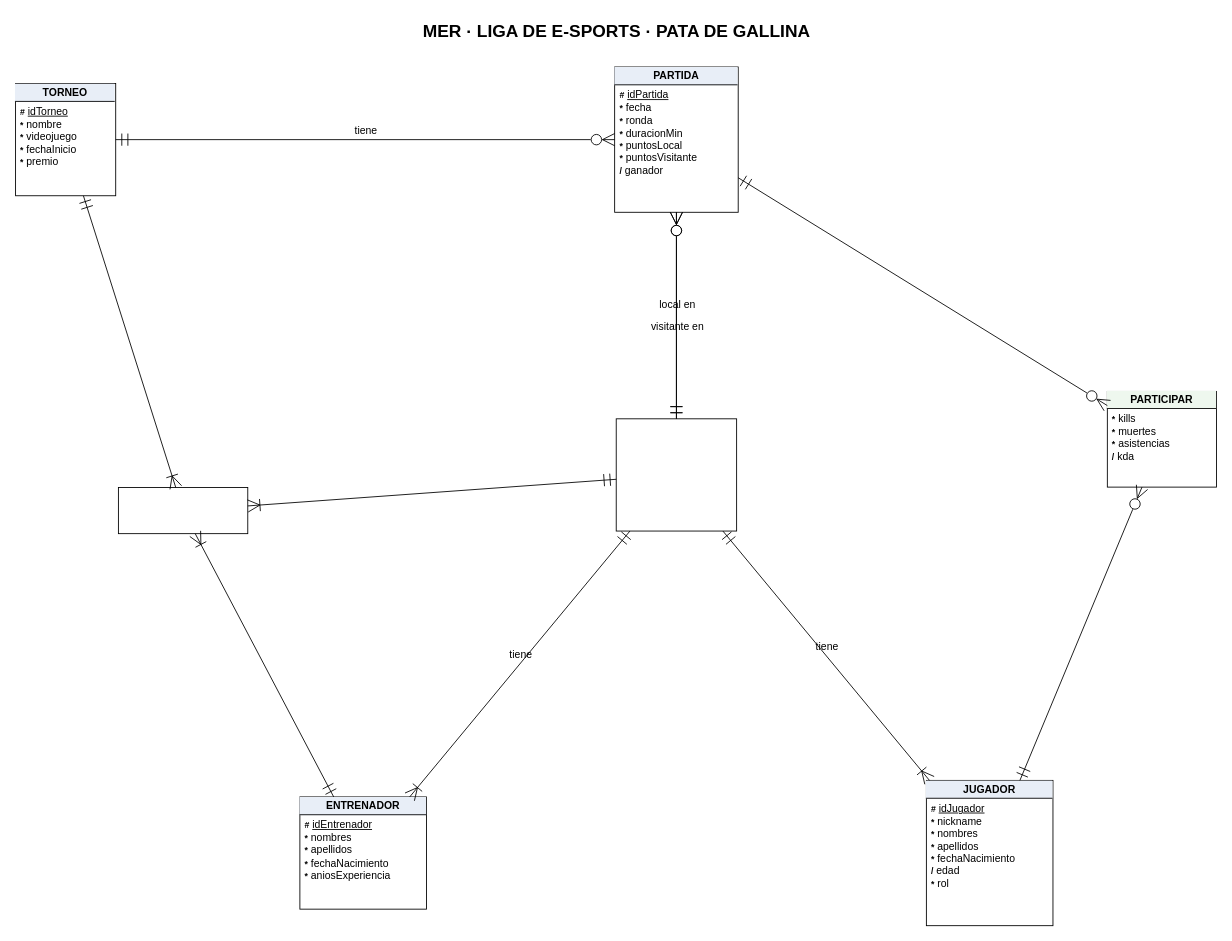
This 1232x941 diagram has some shape labels left out. Here are the shapes that lost their labels. From the top down, the centre of each, then its label:
point (676, 474): EQUIPO # idEquipo * nombre * pais * fechaFundacion / antiguedad
point (183, 510): INSCRIBIR * fechaInscripcion
